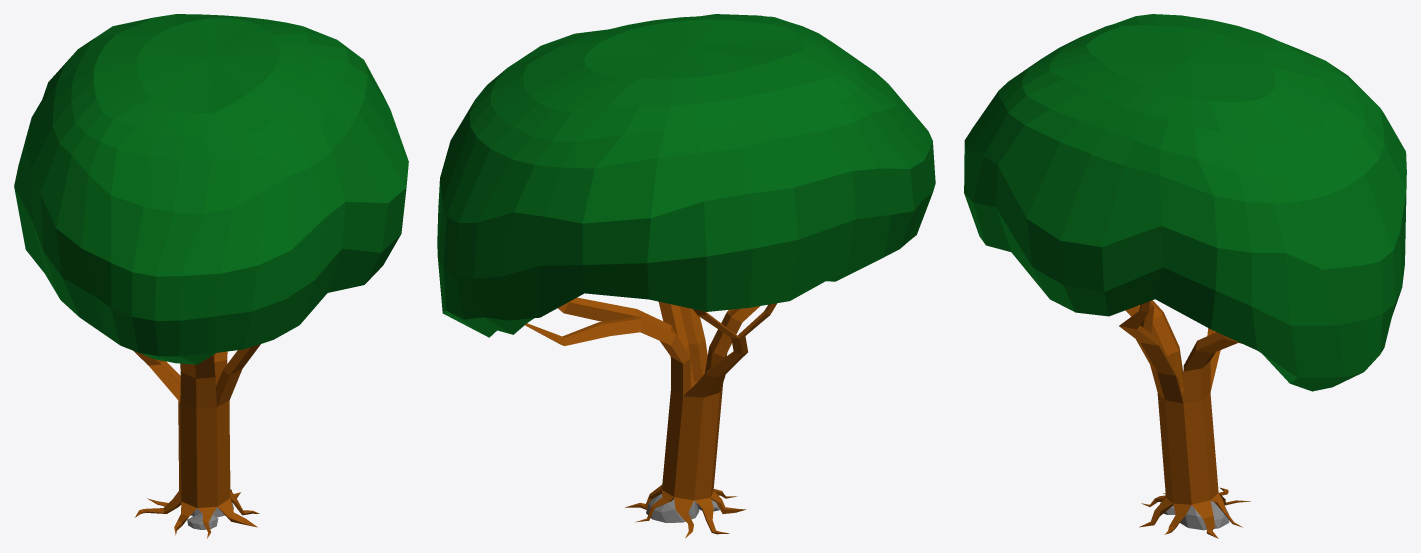
The model's file is treea1.glb.
The picture shows the model from 3 angles, left to right: view 1: azimuth 30°, elevation 25°; view 2: azimuth 150°, elevation 25°; view 3: azimuth 270°, elevation 25°; orthographic projection.
Parts seen in each view (by area): view 1: Sphere, Icosphere.003; view 2: Sphere, Icosphere.003; view 3: Sphere, Icosphere.003.
Boxes of the visible parts, x1,y1,x2,y2 form: Sphere: [14, 14, 408, 364]; Icosphere.003: [134, 344, 260, 538]; Sphere: [437, 14, 935, 337]; Icosphere.003: [525, 297, 776, 538]; Sphere: [964, 14, 1406, 391]; Icosphere.003: [1119, 300, 1250, 538].
Size of the model in its own units: 11.73 by 13.38 by 11.81.
